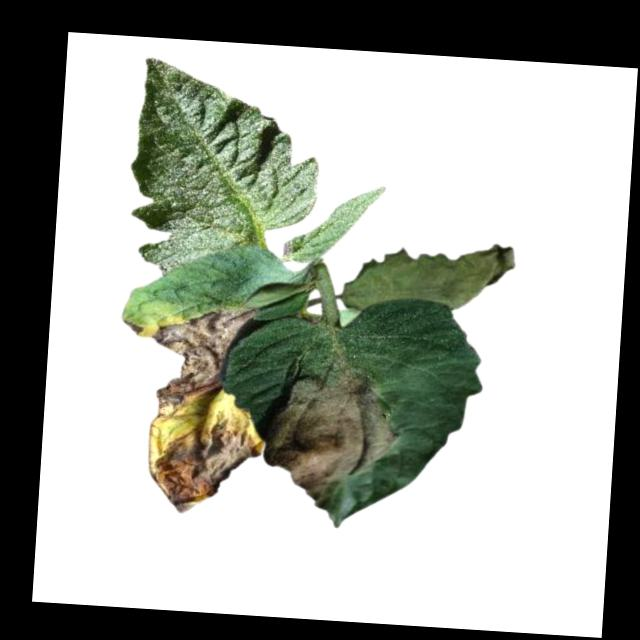Late_blight: (257, 353, 404, 513), (340, 232, 516, 323), (150, 300, 258, 425), (143, 419, 263, 520), (120, 317, 144, 337)
healthy: (121, 56, 324, 285), (284, 177, 386, 270)
